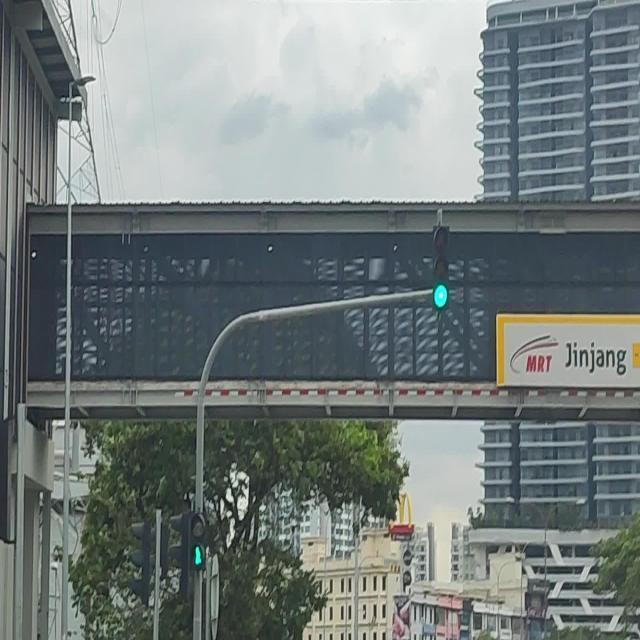green_light: (433, 224, 451, 310)
